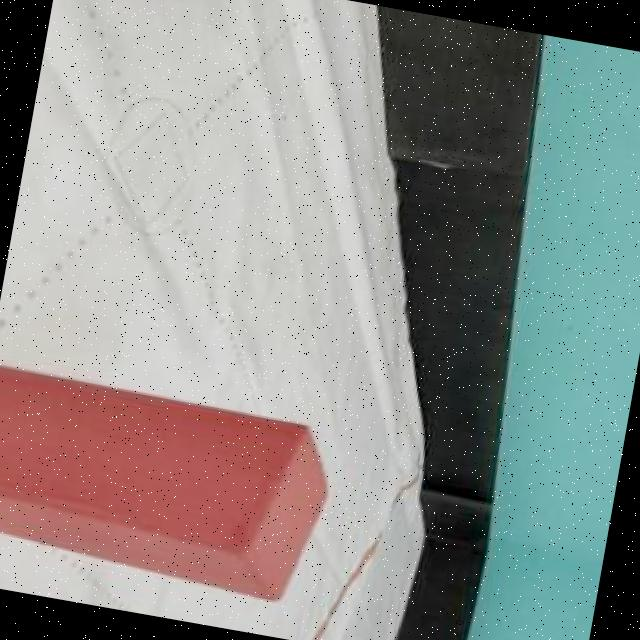redbox: (0, 364, 345, 611)
